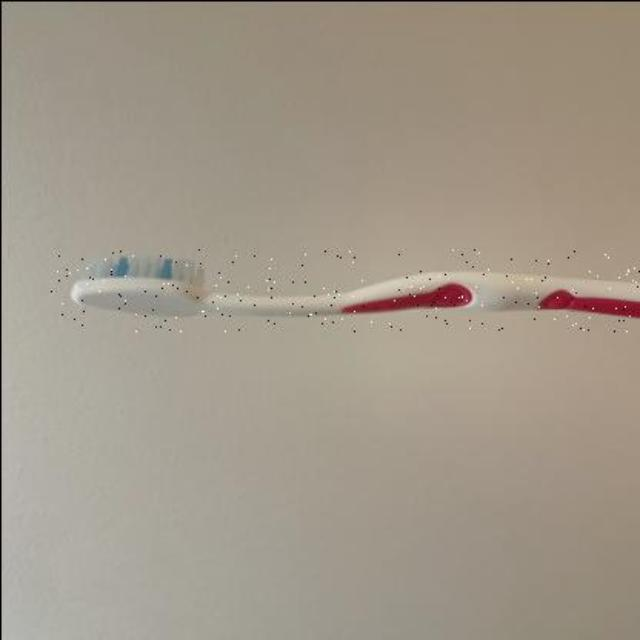toothbrush: (50, 248, 640, 332)
